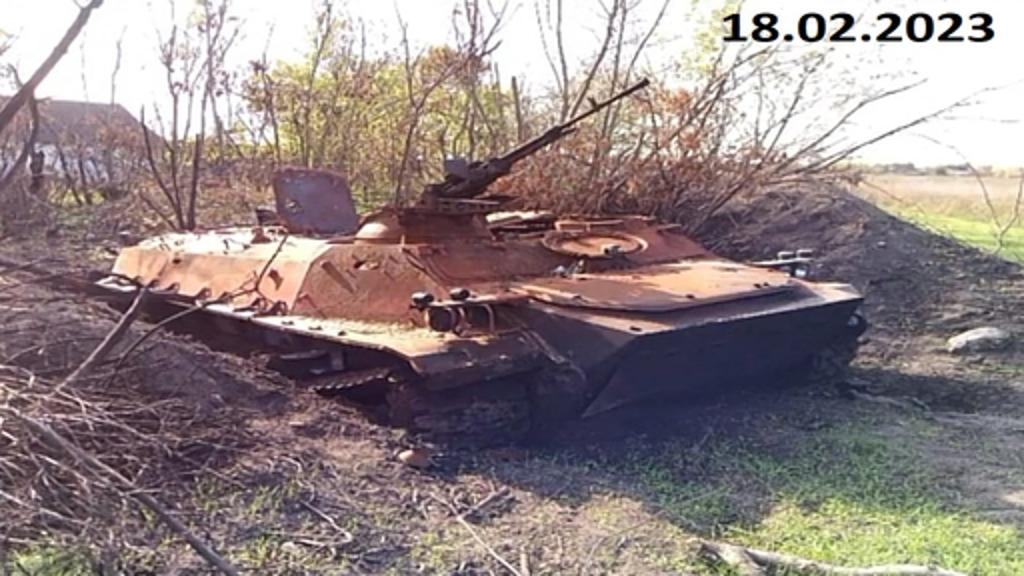APC-IFV: (96, 74, 868, 444)
